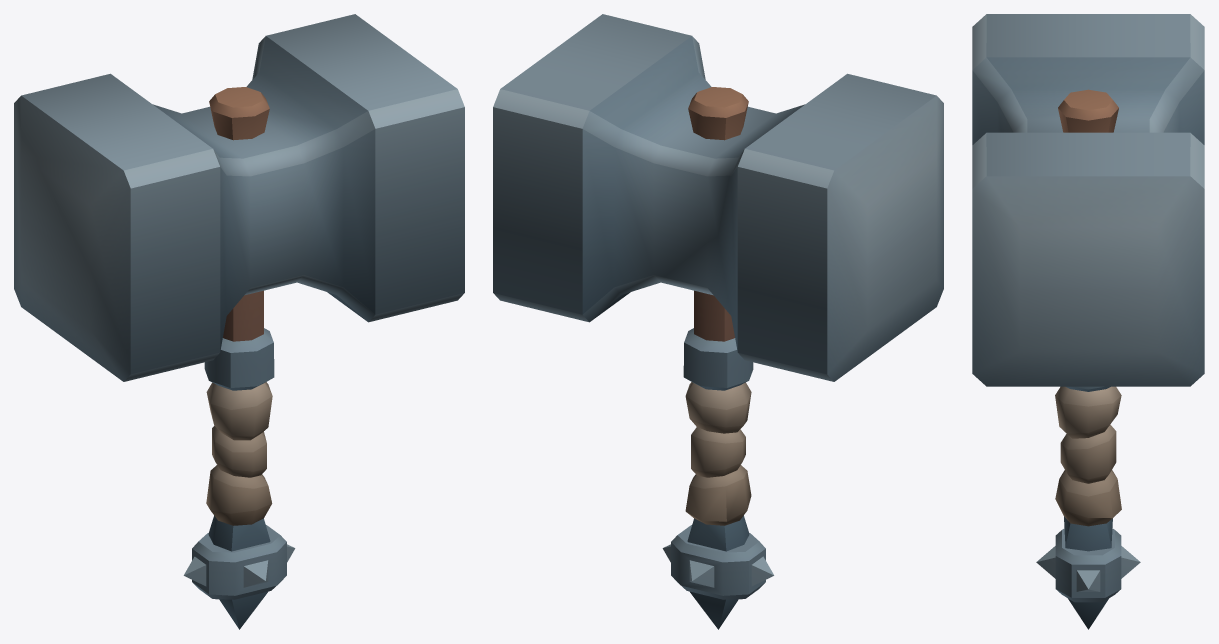
File: hammer_A.fbx
The picture shows the model from 3 angles, left to right: view 1: azimuth 30°, elevation 25°; view 2: azimuth 150°, elevation 25°; view 3: azimuth 270°, elevation 25°; orthographic projection.
Parts seen in each view (by area): view 1: hammer_A; view 2: hammer_A; view 3: hammer_A.
Part boxes in pixels (x1,y1,x2,y2): hammer_A: [14, 14, 464, 629]; hammer_A: [493, 14, 943, 629]; hammer_A: [972, 14, 1204, 629].
Size of the model in its own units: 81.35 by 114 by 44.81.
